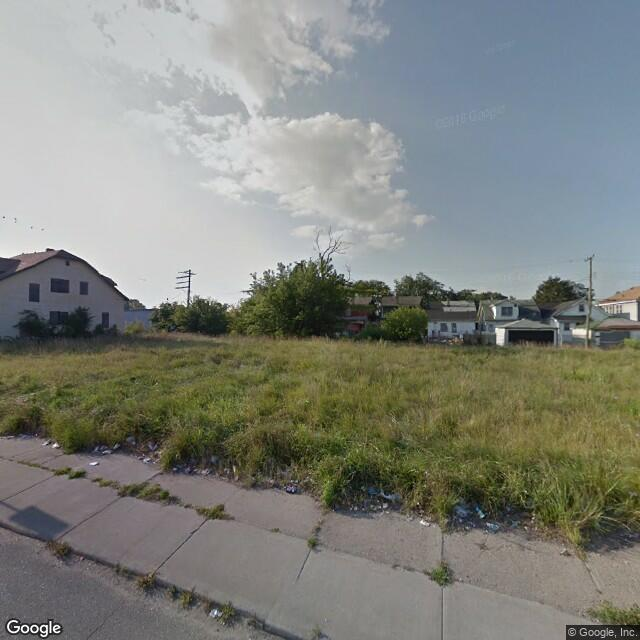litter: (451, 501, 498, 532), (365, 479, 402, 515), (91, 436, 139, 454), (199, 600, 231, 622), (197, 452, 225, 477), (146, 438, 169, 465), (38, 432, 64, 452), (413, 512, 437, 530), (84, 457, 104, 470)
